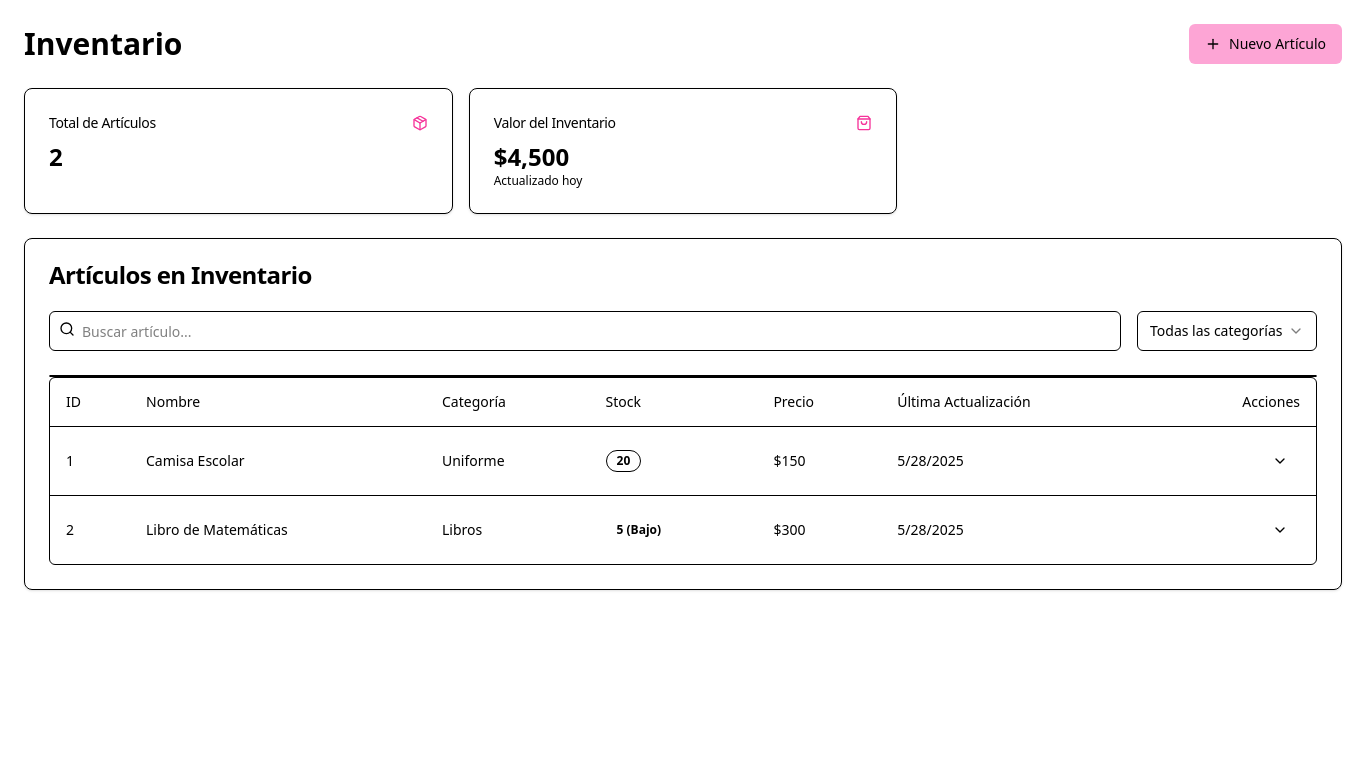
Test: ArticulosPage › filtra los artículos por nombre
Expected: the text "Camisa Escolar" is shown, left=130, top=426, right=426, bottom=495
Type "Camisa" into the field with placeholder "Buscar artículo..." at x=585, y=331, box left=49, top=311, right=1121, bottom=351
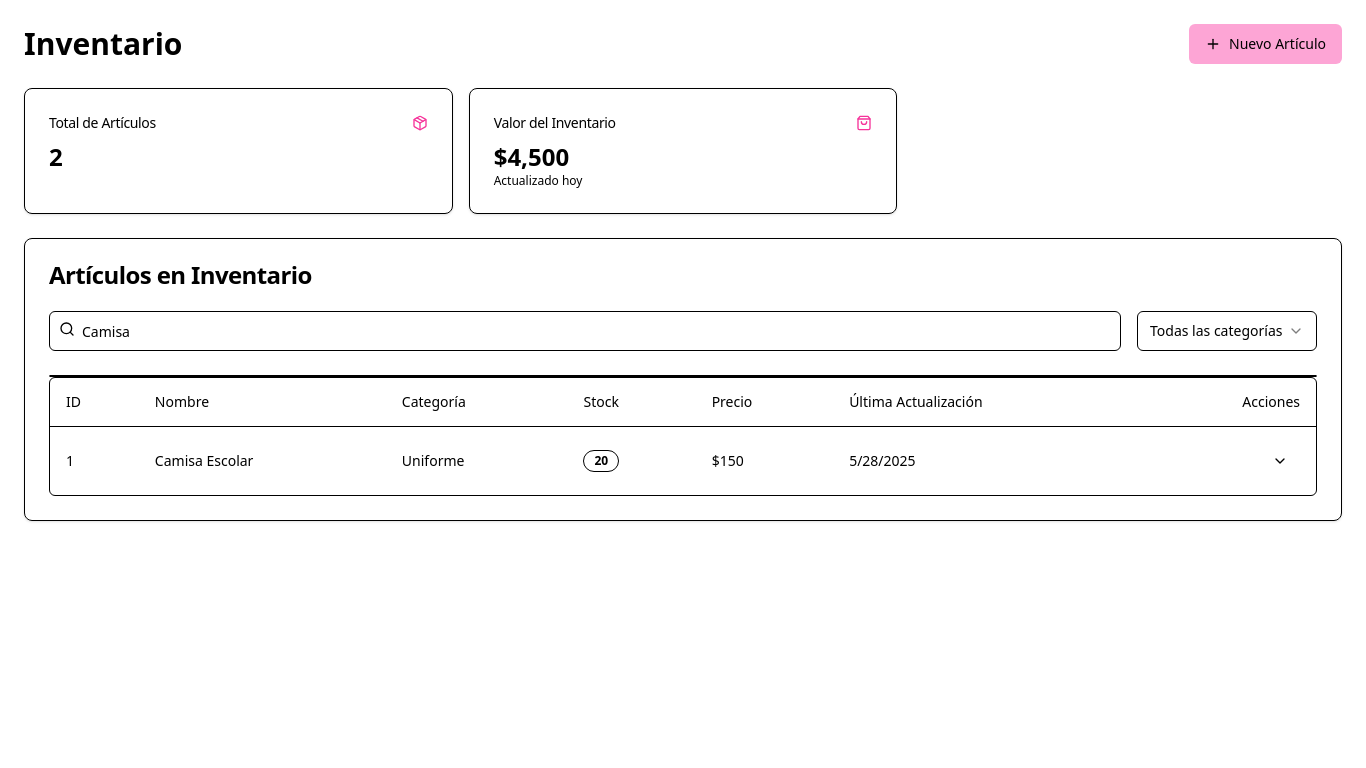
Expected: the text "Camisa Escolar" is shown, left=139, top=426, right=386, bottom=494
Result: the text "Libro de Matemáticas" is gone
